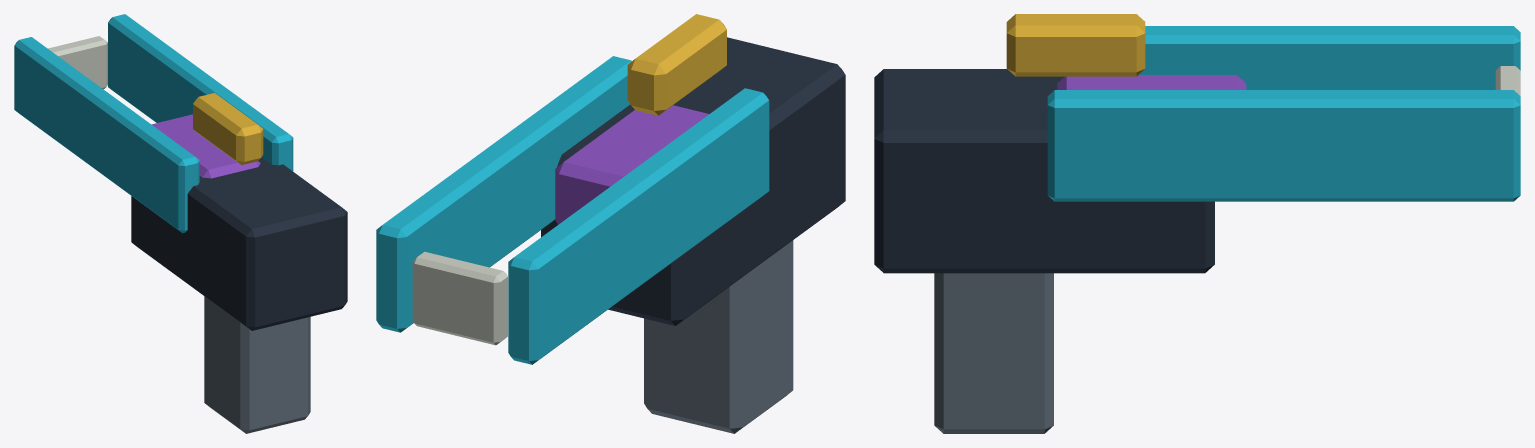
The model's file is hype-railgun.glb.
3 views of the same model, side by side, from view 1: azimuth 30°, elevation 25°; view 2: azimuth 150°, elevation 25°; view 3: azimuth 270°, elevation 25° (orthographic). The views are drawn at different scales.
Parts seen in each view (by area): view 1: hype-railgun_Body, hype-railgun_Mechanism; view 2: hype-railgun_Body, hype-railgun_Mechanism; view 3: hype-railgun_Body, hype-railgun_Mechanism.
Boxes of the visible parts, x1,y1,x2,y2 form: hype-railgun_Body: [14, 14, 347, 433]; hype-railgun_Mechanism: [151, 114, 260, 178]; hype-railgun_Body: [376, 14, 845, 433]; hype-railgun_Mechanism: [555, 105, 709, 224]; hype-railgun_Body: [874, 14, 1520, 433]; hype-railgun_Mechanism: [1057, 75, 1246, 89].
Bounding box in the file's own units: 0.295 × 0.69 × 1.03.
